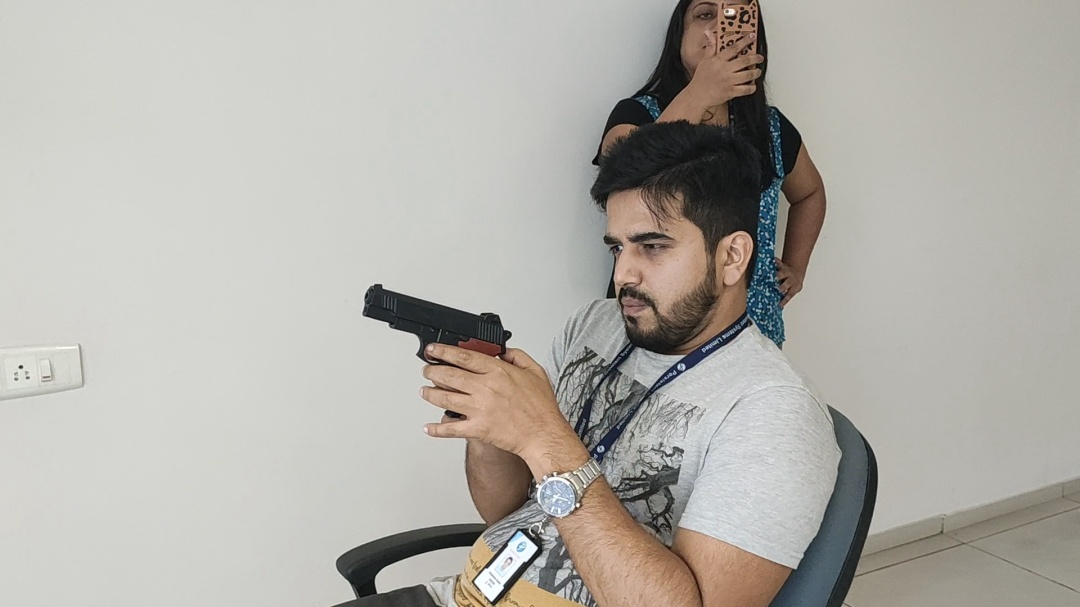gun: (361, 282, 512, 376)
